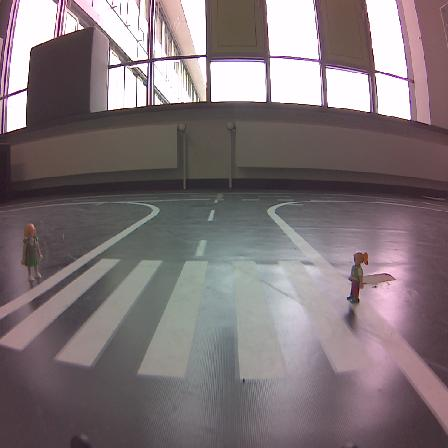CHILD: (347, 252, 367, 302)
PERSON: (21, 223, 42, 280)
